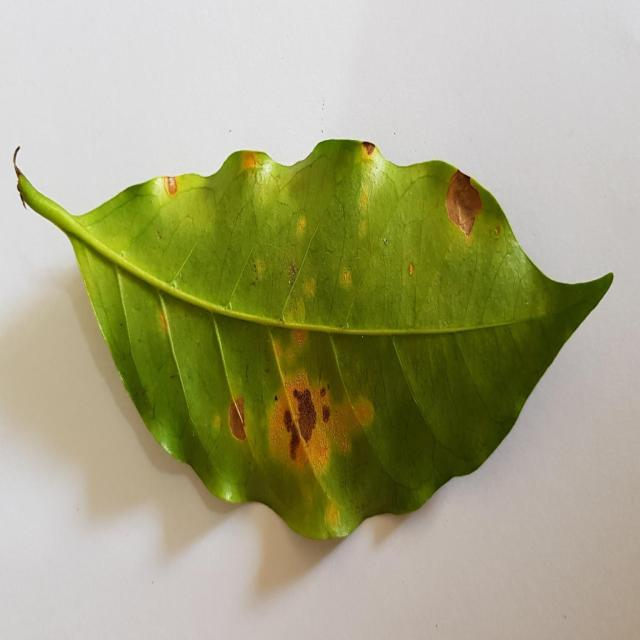Plaga-Minador: (14, 140, 615, 544)
